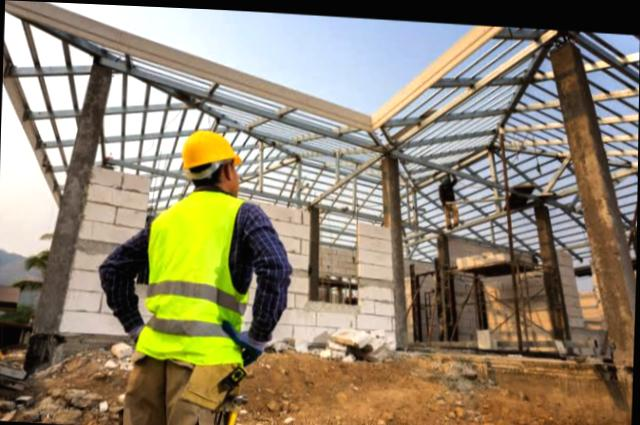helmet: (180, 125, 243, 172)
vest: (130, 188, 255, 366)
